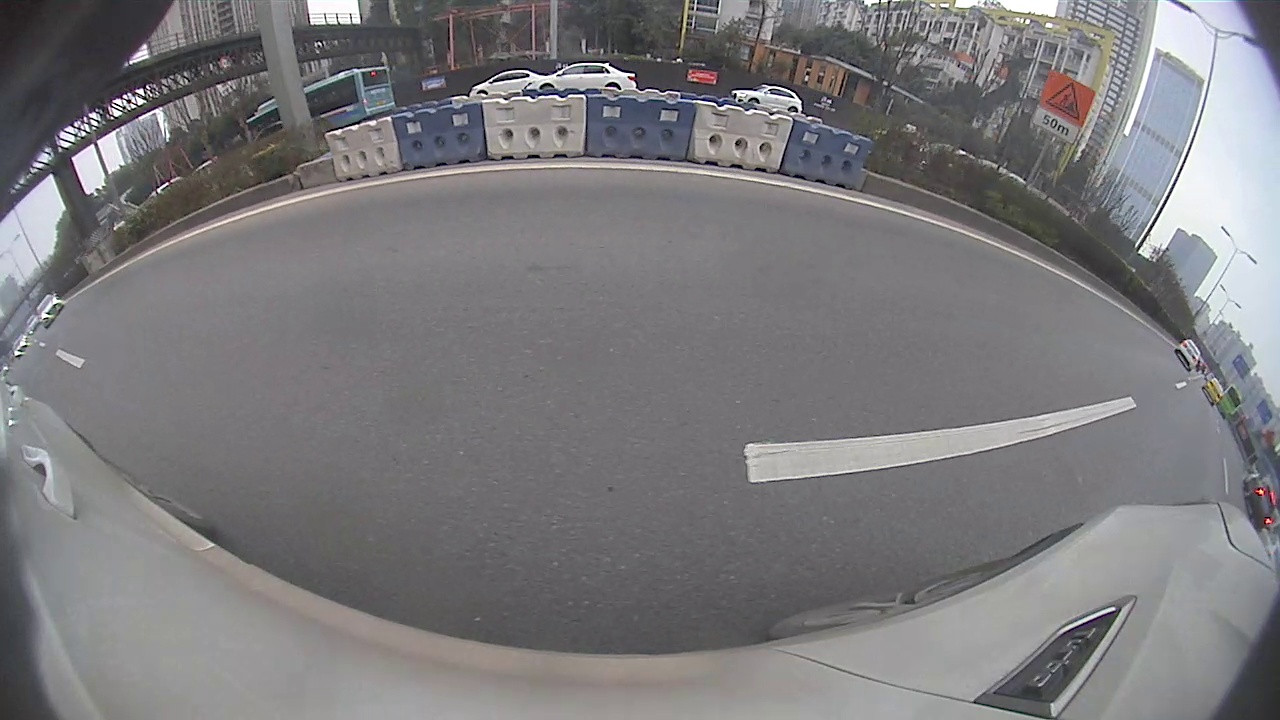car: (33, 291, 66, 332), (1173, 335, 1204, 374), (1200, 376, 1226, 409)
